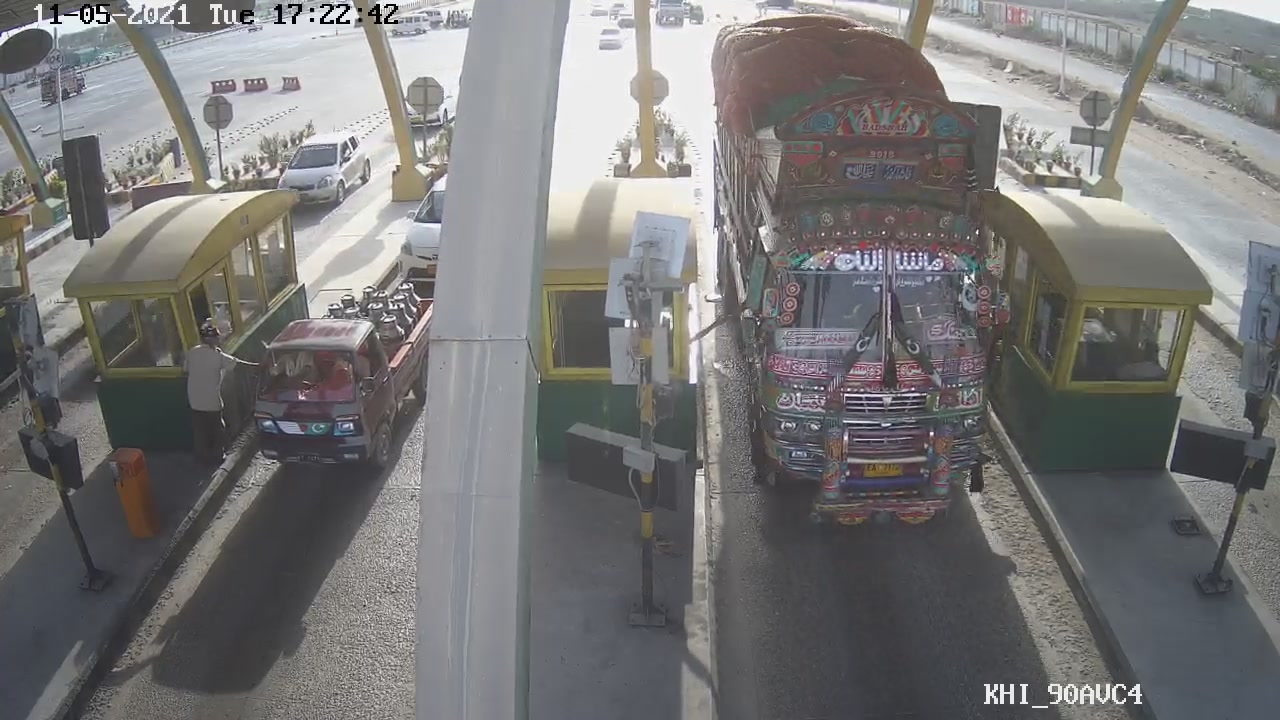F5: (699, 1, 1020, 528)
